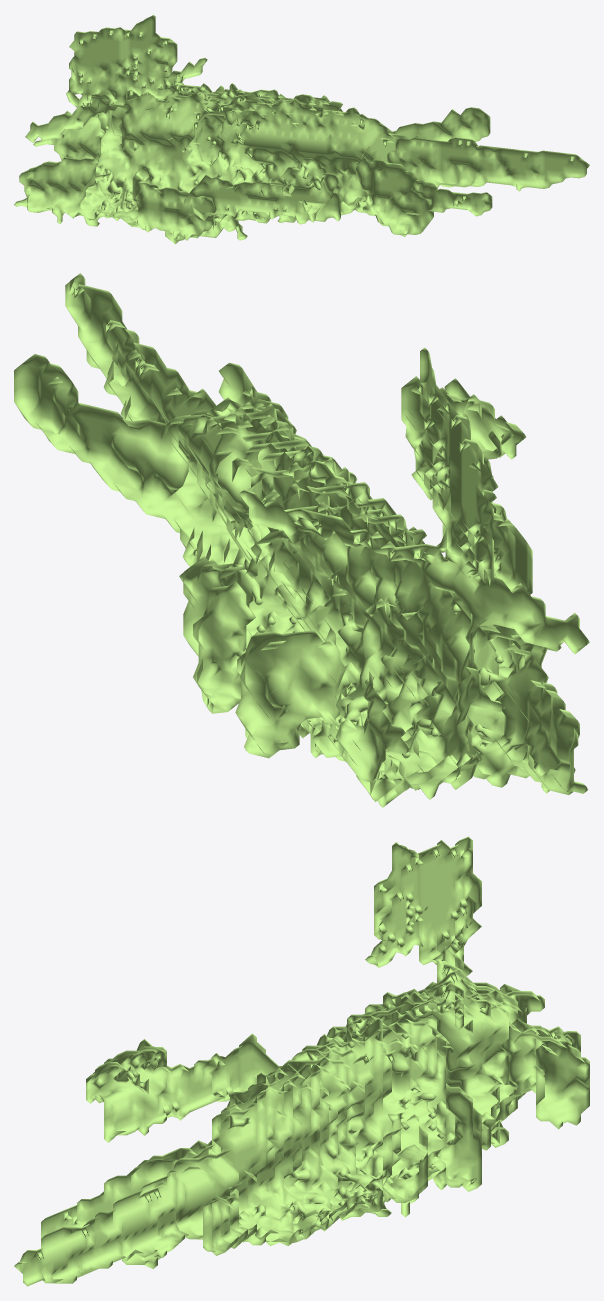
Rendered from osteocyte_37.glb.
The picture shows the model from 3 angles, top to bottom: view 1: azimuth 30°, elevation 25°; view 2: azimuth 150°, elevation 25°; view 3: azimuth 270°, elevation 25°; orthographic projection. The views are drawn at different scales.
Visible parts, largest first — view 1: osteocyte_37; view 2: osteocyte_37; view 3: osteocyte_37.
Boxes of the visible parts, <box> form: osteocyte_37: <box>14,14,589,244</box>; osteocyte_37: <box>14,273,589,807</box>; osteocyte_37: <box>14,836,589,1286</box>.
Size of the model in its own units: 39 by 19.74 by 30.82.
